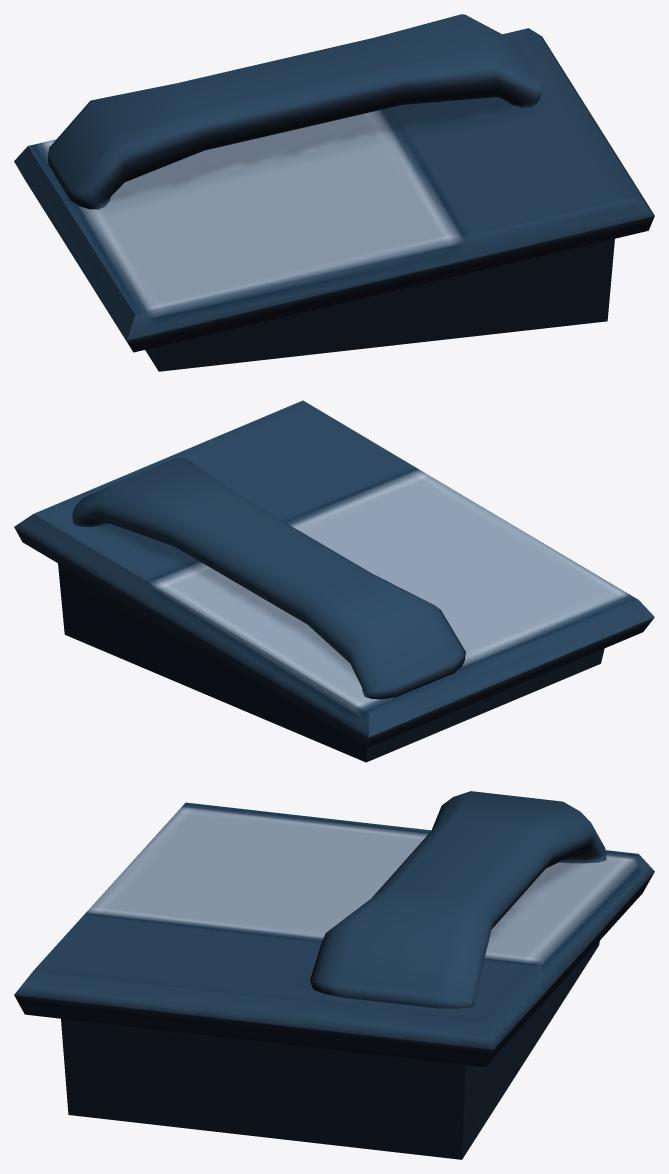
The model's file is Tx_prop_telephone_30.fbx.
The picture shows the model from 3 angles, top to bottom: view 1: azimuth 30°, elevation 25°; view 2: azimuth 150°, elevation 25°; view 3: azimuth 270°, elevation 25°; orthographic projection. The views are drawn at different scales.
Visible parts, largest first — view 1: Tx_prop_telephone_11; view 2: Tx_prop_telephone_11; view 3: Tx_prop_telephone_11.
Boxes of the visible parts, <box> form: Tx_prop_telephone_11: <box>14,14,654,371</box>; Tx_prop_telephone_11: <box>14,400,654,762</box>; Tx_prop_telephone_11: <box>14,791,654,1159</box>.
Bounding box in the file's own units: 1.75 × 0.5321 × 1.55.
